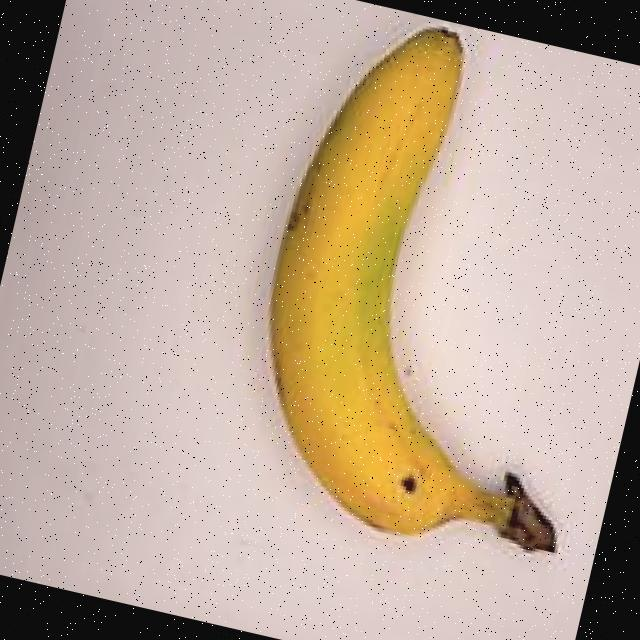Ripe: (167, 0, 640, 591)
